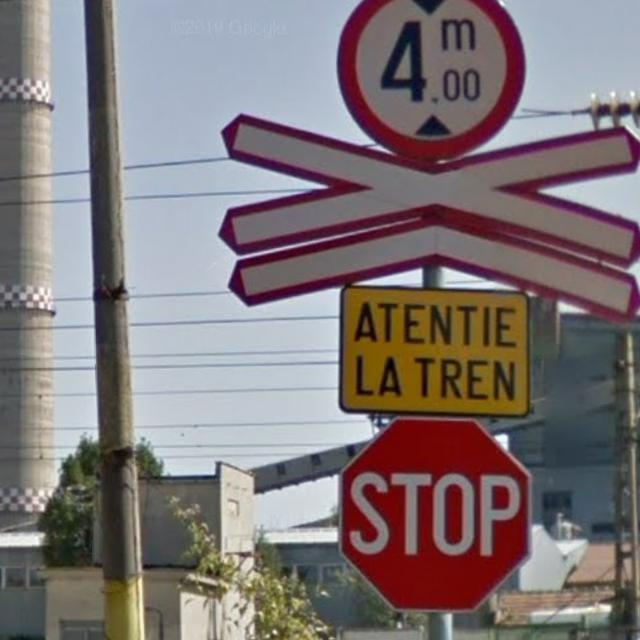prio_stop: (337, 416, 532, 610)
